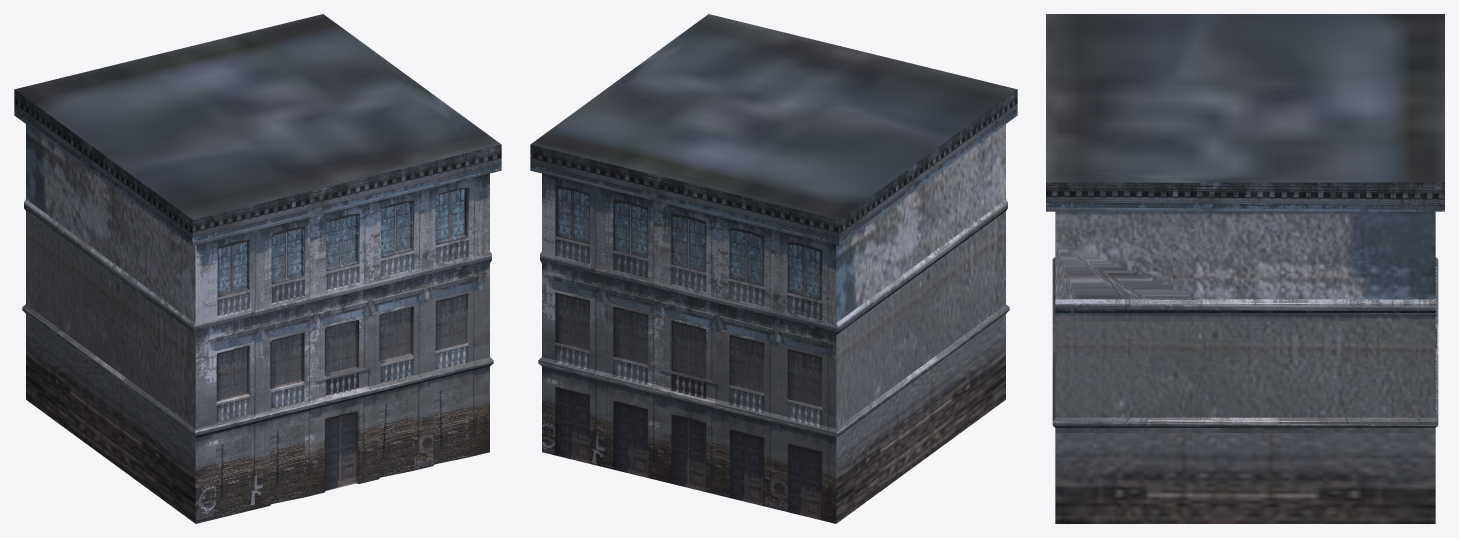
The model's file is edi.fbx.
3 views of the same model, side by side, from view 1: azimuth 30°, elevation 25°; view 2: azimuth 150°, elevation 25°; view 3: azimuth 270°, elevation 25° (orthographic). The views are drawn at different scales.
Parts seen in each view (by area): view 1: Cubo.001; view 2: Cubo.001; view 3: Cubo.001.
Boxes of the visible parts, <box> form: Cubo.001: <box>14,14,501,523</box>; Cubo.001: <box>530,14,1017,523</box>; Cubo.001: <box>1046,14,1444,523</box>.
Size of the model in its own units: 3149 by 3009 by 3149.
3 materials, 3 textured.
